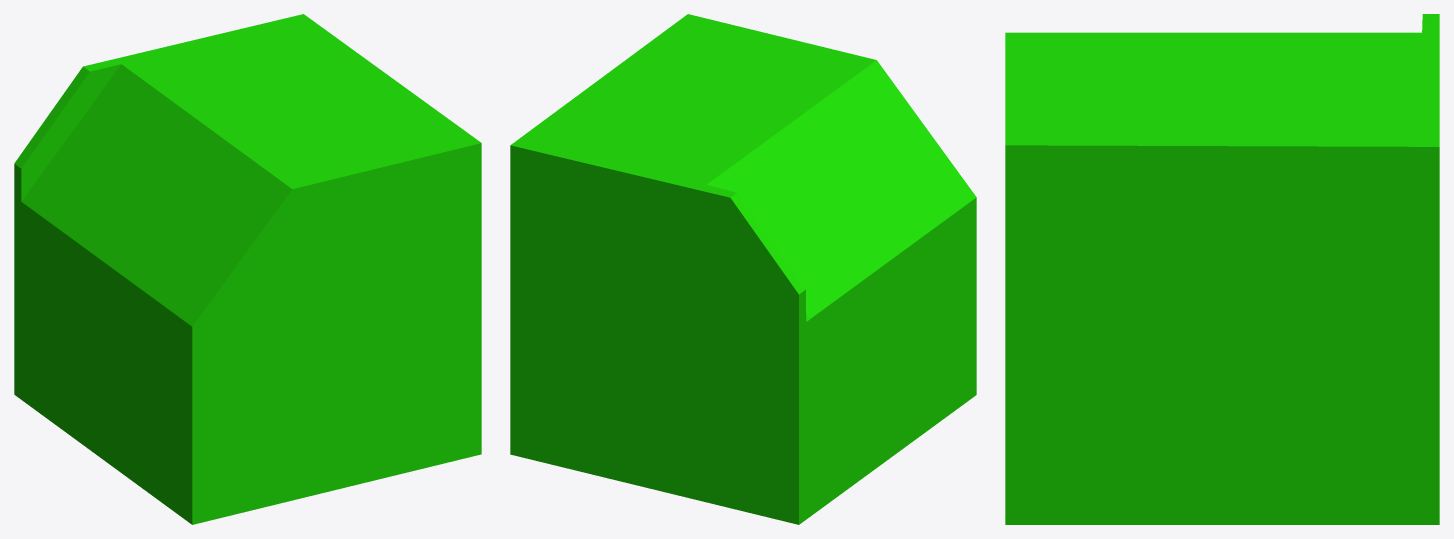
The model's file is SM_Shelf_04_Collider.fbx.
3 views of the same model, side by side, from view 1: azimuth 30°, elevation 25°; view 2: azimuth 150°, elevation 25°; view 3: azimuth 270°, elevation 25° (orthographic). The views are drawn at different scales.
Visible parts, largest first — view 1: SM_Shelf_04_Collider; view 2: SM_Shelf_04_Collider; view 3: SM_Shelf_04_Collider.
Part boxes in pixels (x1=…): SM_Shelf_04_Collider: x1=14, y1=14, x2=481, y2=524; SM_Shelf_04_Collider: x1=510, y1=14, x2=976, y2=524; SM_Shelf_04_Collider: x1=1005, y1=14, x2=1439, y2=524.
Size of the model in its own units: 94.77 by 97.41 by 101.
